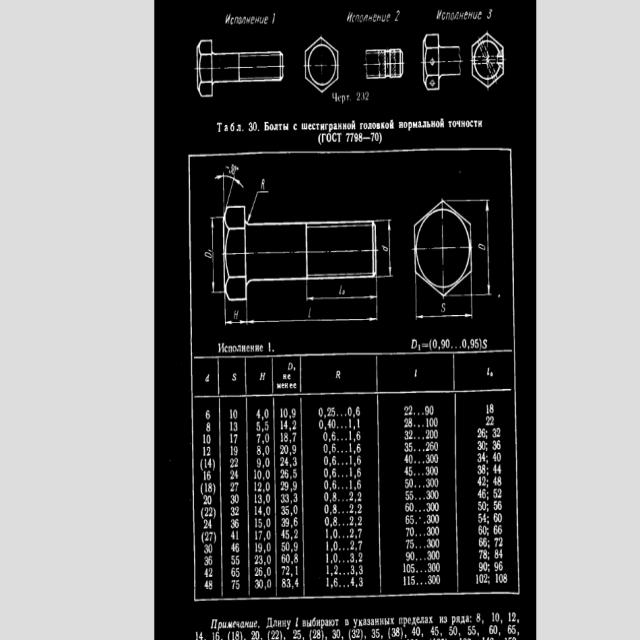marking_line: (246, 301, 379, 325), (472, 199, 491, 296), (306, 281, 380, 302), (414, 297, 472, 320), (209, 216, 223, 294), (215, 175, 244, 206), (377, 219, 392, 278), (248, 190, 270, 223), (224, 301, 248, 325)
numeric: (478, 242, 486, 251), (483, 338, 489, 350), (204, 252, 212, 260), (381, 243, 388, 252), (355, 92, 361, 102), (487, 8, 492, 19), (229, 164, 234, 175), (261, 179, 266, 190), (441, 302, 446, 313), (259, 372, 265, 381), (287, 362, 293, 371), (272, 12, 276, 25), (360, 91, 365, 101), (345, 133, 350, 143), (268, 341, 272, 353), (446, 337, 450, 349), (204, 374, 210, 382), (232, 373, 237, 382), (413, 369, 418, 378), (395, 10, 399, 21), (359, 132, 363, 143), (253, 121, 257, 132), (441, 338, 445, 349), (470, 338, 474, 349), (350, 133, 354, 143), (354, 133, 358, 143), (371, 132, 375, 142), (375, 132, 379, 142), (233, 165, 237, 175), (234, 310, 238, 320), (249, 122, 253, 132), (433, 339, 437, 349), (462, 338, 466, 348), (475, 339, 479, 349), (365, 92, 369, 101), (309, 307, 312, 319), (336, 370, 340, 378), (487, 367, 490, 376), (418, 344, 421, 351), (339, 285, 341, 295), (208, 249, 212, 253)
special_symbol: (429, 339, 432, 351), (479, 338, 482, 350), (498, 293, 501, 300), (342, 290, 345, 296), (490, 371, 493, 377), (293, 366, 296, 371)
